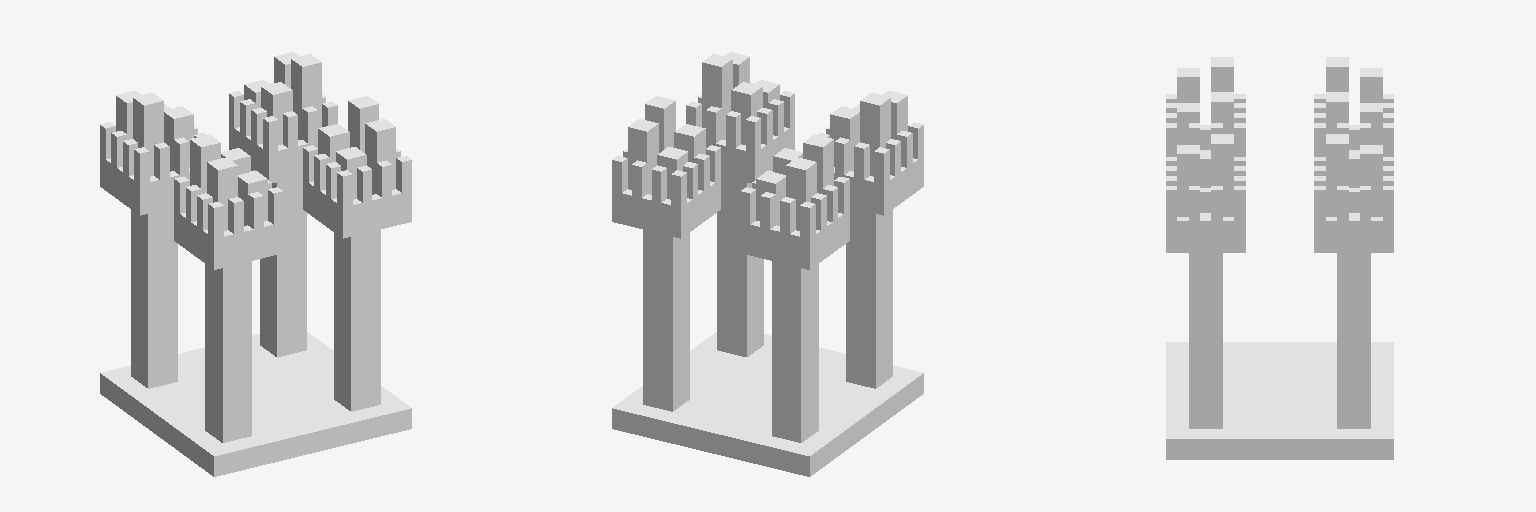
File: ArchTower.obj
The picture shows the model from 3 angles: view 1: azimuth 30°, elevation 25°; view 2: azimuth 150°, elevation 25°; view 3: azimuth 270°, elevation 25°; orthographic projection.
Parts seen in each view (by area): view 1: object 1; view 2: object 1; view 3: object 1.
Part boxes in pixels (left/top/right/bottom): object 1: left=100, top=52, right=411, bottom=476; object 1: left=612, top=52, right=923, bottom=476; object 1: left=1166, top=57, right=1393, bottom=459.
Size of the model in its own units: 2 by 3 by 2.